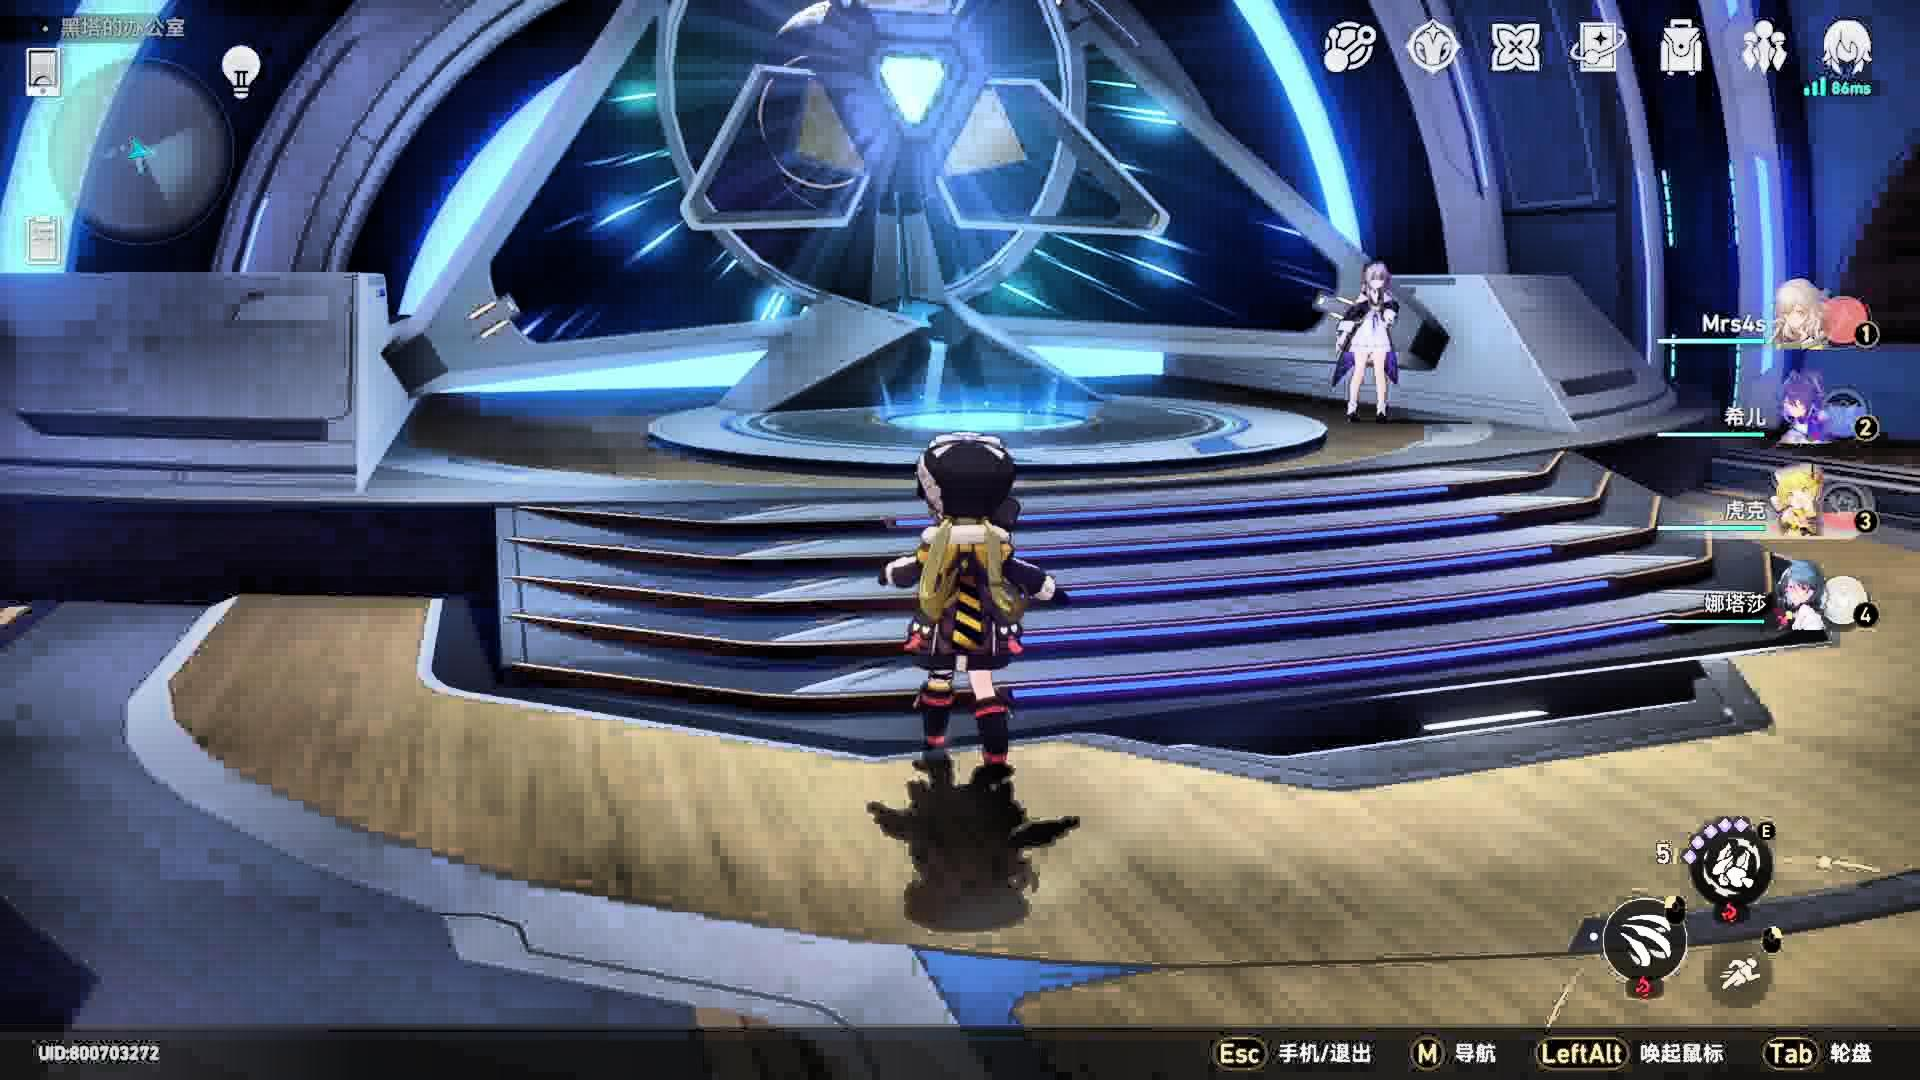Self: (880, 435, 1073, 775)
TeamMate: (1331, 260, 1402, 425)
